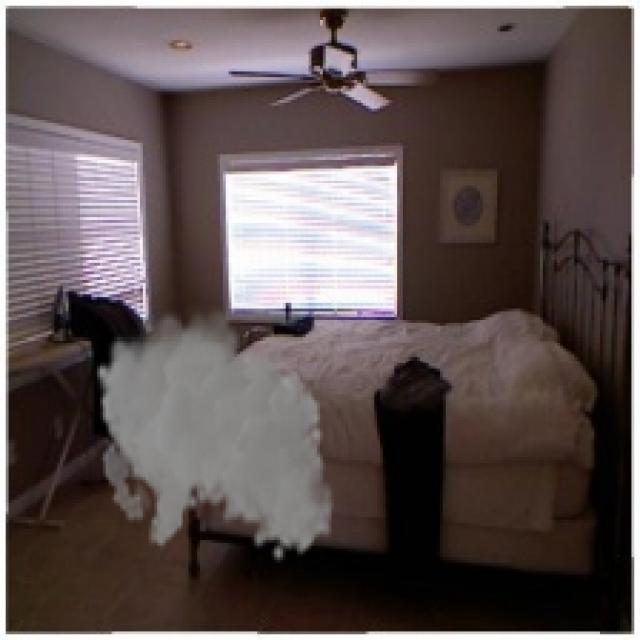smoke: (94, 300, 334, 563)
